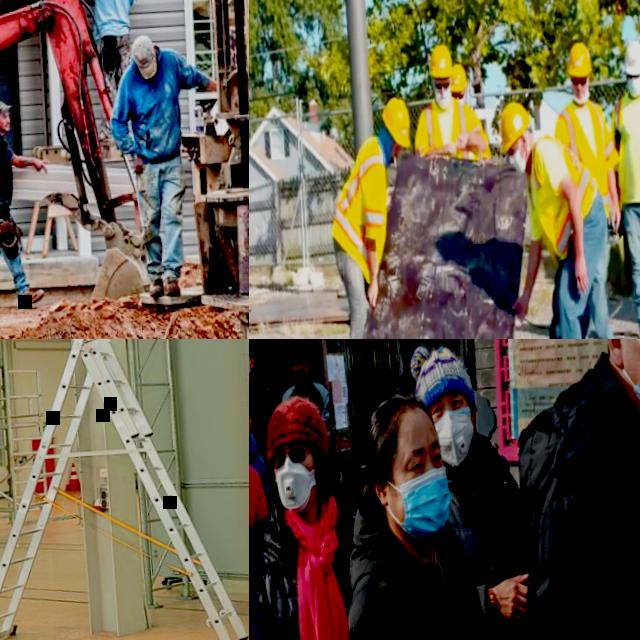Hardhat: (378, 96, 412, 148), (499, 99, 533, 150), (566, 39, 593, 75), (427, 42, 453, 79), (621, 39, 640, 75), (448, 62, 467, 93)
Mask: (396, 466, 455, 545), (434, 405, 479, 468), (273, 457, 317, 515), (509, 137, 529, 175), (433, 83, 453, 110), (626, 73, 640, 96), (292, 370, 309, 388), (457, 96, 466, 105)
NO-Hardhat: (364, 392, 440, 460), (263, 394, 331, 454), (411, 341, 476, 402), (130, 34, 158, 77), (285, 339, 308, 362), (0, 98, 12, 116), (466, 351, 478, 365), (398, 339, 416, 347)
NO-Mask: (0, 119, 11, 130)
NO-Safety Vest: (532, 390, 640, 640), (261, 501, 384, 640), (444, 457, 534, 640), (357, 549, 515, 640), (130, 47, 184, 158), (94, 0, 130, 33), (249, 392, 268, 441), (0, 134, 13, 199), (466, 364, 478, 386), (401, 366, 412, 389)
Person: (495, 339, 640, 640), (407, 339, 546, 640), (102, 28, 235, 295), (495, 92, 622, 339), (546, 36, 634, 339), (320, 94, 427, 339), (0, 94, 60, 310), (601, 36, 640, 339), (408, 38, 489, 164), (74, 0, 145, 137), (450, 63, 491, 159), (394, 339, 421, 396), (464, 347, 478, 387)
Safety Vest: (525, 129, 602, 264), (325, 136, 393, 279), (554, 96, 623, 217), (414, 98, 473, 158), (611, 83, 640, 198)
vehicle: (0, 0, 159, 339)
